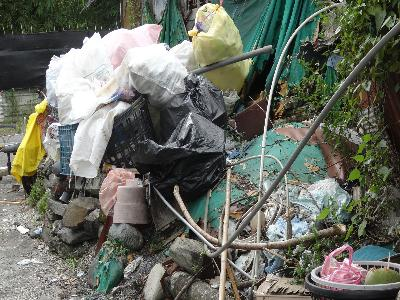plastic_bag: (46, 21, 189, 126), (134, 111, 242, 202), (187, 2, 254, 96)
